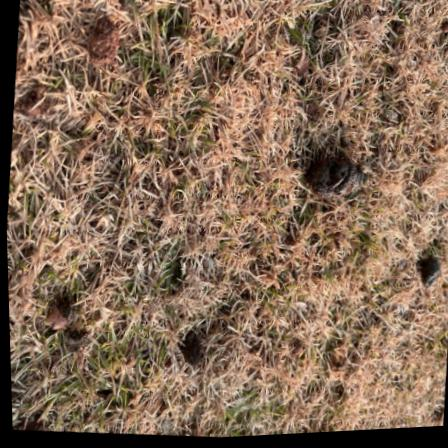dog-poop: (296, 151, 371, 209)
